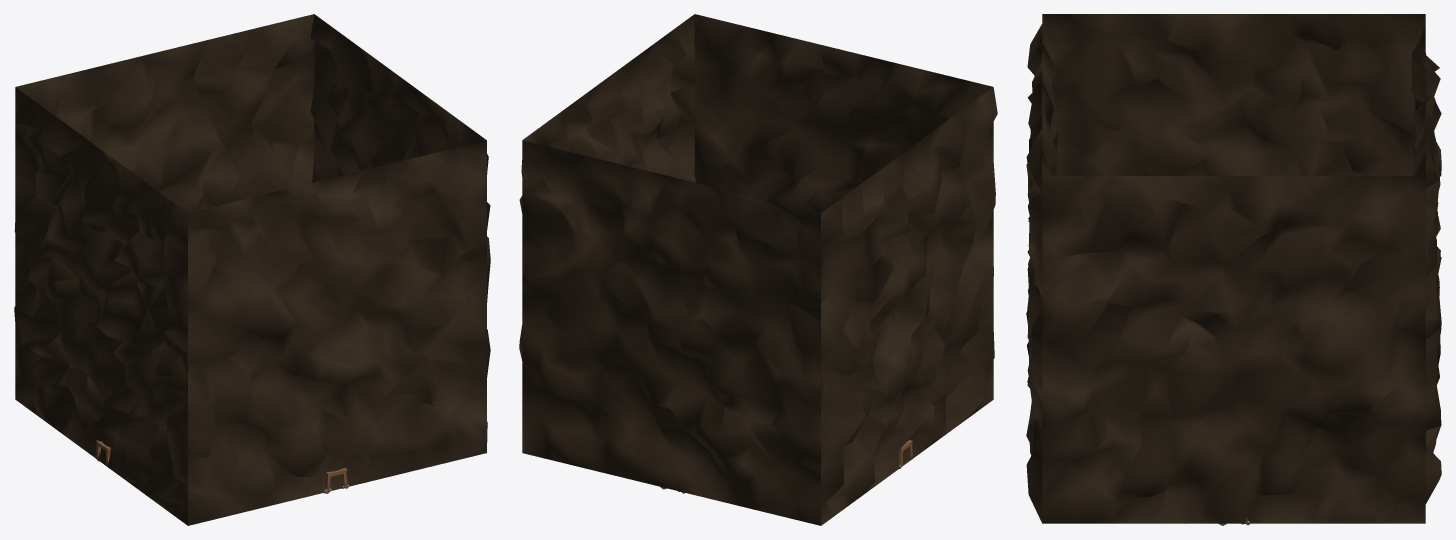
File: HabitaciónPequeña(6).fbx
The picture shows the model from 3 angles, left to right: view 1: azimuth 30°, elevation 25°; view 2: azimuth 150°, elevation 25°; view 3: azimuth 270°, elevation 25°; orthographic projection. The views are drawn at different scales.
Parts seen in each view (by area): view 1: 4ParedRugosa, 3ParedRugosa, 2ParedRugosa, 1ParedRugosa; view 2: 2ParedRugosa, 3ParedRugosa, 4ParedRugosa, 1ParedRugosa; view 3: 1ParedRugosa, 3ParedRugosa, 4ParedRugosa, 2ParedRugosa.
Part boxes in pixels (x1,y1,x2,y2): 4ParedRugosa: [188, 140, 486, 525]; 3ParedRugosa: [14, 87, 187, 525]; 2ParedRugosa: [16, 14, 314, 212]; 1ParedRugosa: [310, 14, 490, 441]; 2ParedRugosa: [522, 140, 820, 525]; 3ParedRugosa: [821, 87, 997, 525]; 4ParedRugosa: [694, 14, 992, 212]; 1ParedRugosa: [519, 14, 695, 360]; 1ParedRugosa: [1042, 176, 1425, 523]; 3ParedRugosa: [1042, 14, 1425, 175]; 4ParedRugosa: [1026, 15, 1057, 522]; 2ParedRugosa: [1410, 24, 1441, 503].
Bounding box in the file's own units: 10398 × 9693 × 10400.
